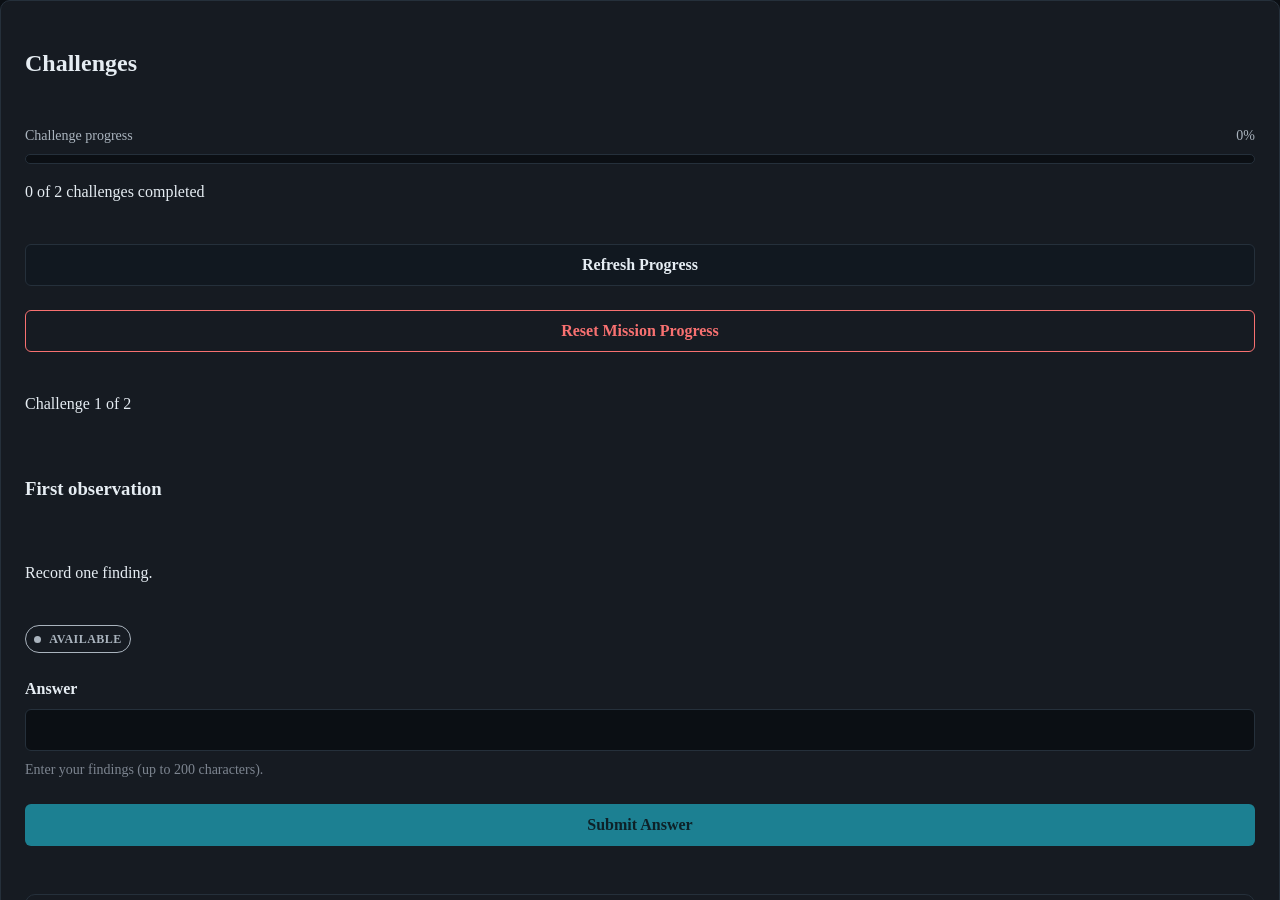
Test case: submits a generic answer once and shows incorrect feedback without disclosure
In the field labelled "Answer": (640, 730) [25, 709, 1255, 751], type "fixture observation"
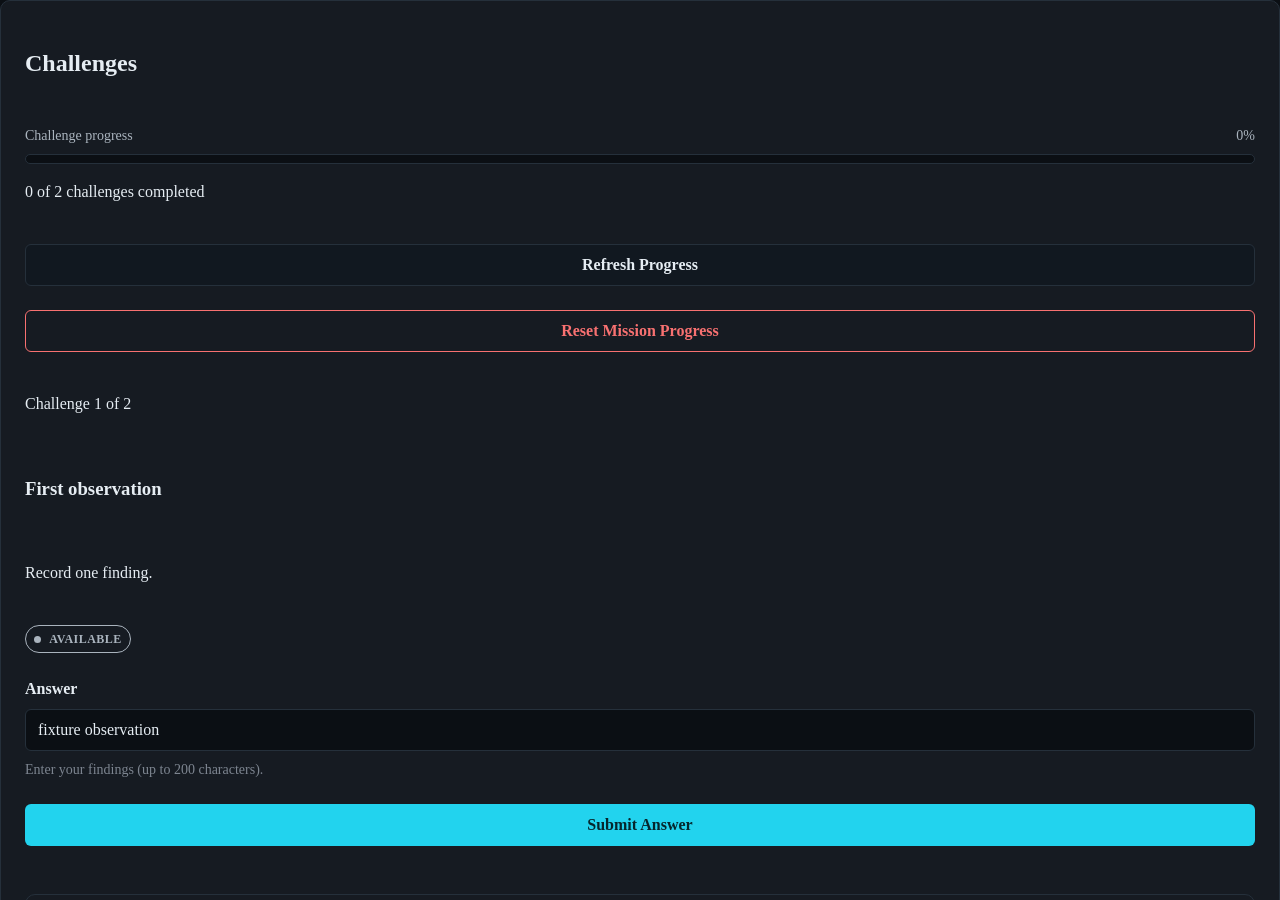
Click the button "Submit Answer": click(640, 825) [25, 804, 1255, 846]
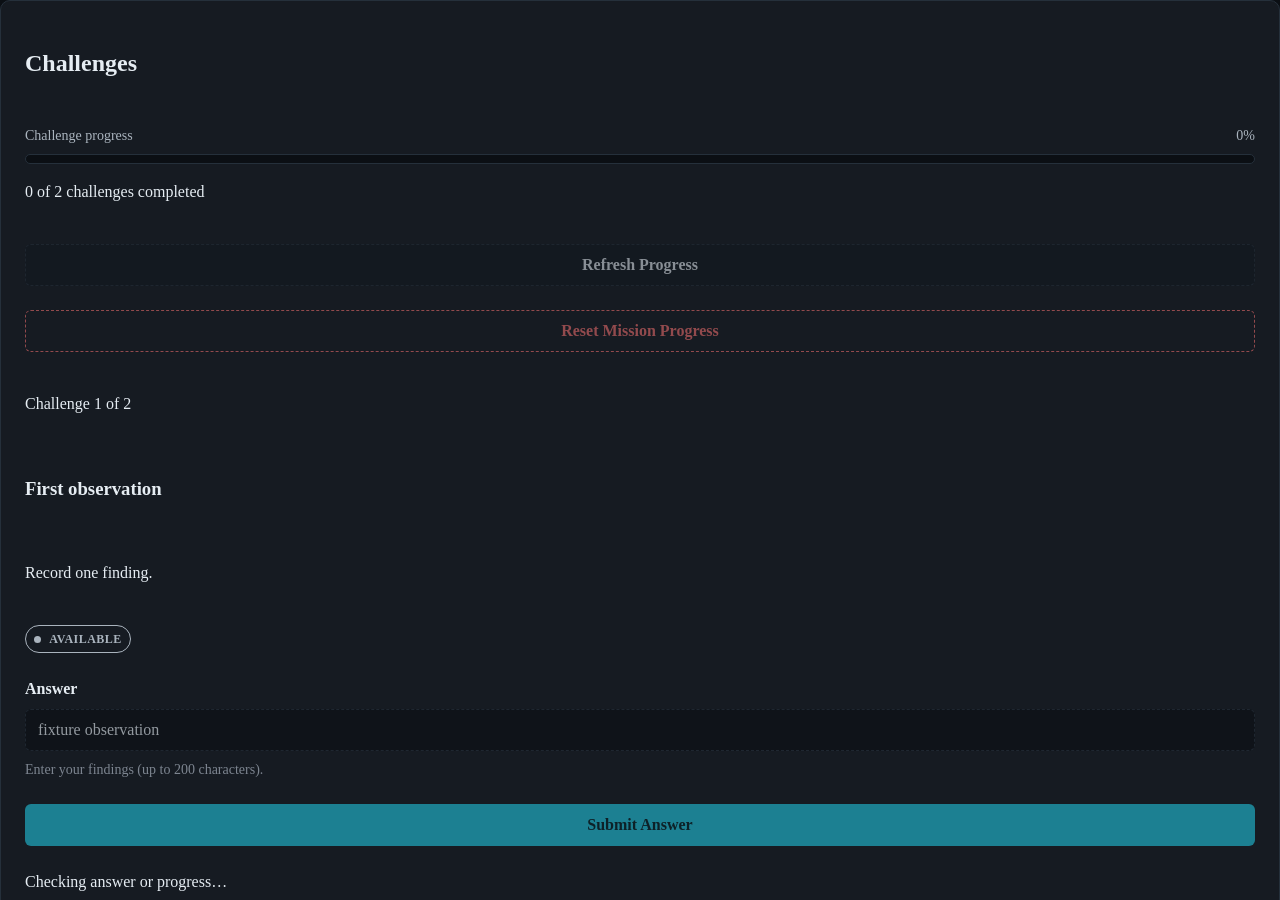
Now the button "Submit Answer" is disabled
Click the button "Submit Answer": click(640, 825) [25, 804, 1255, 846]
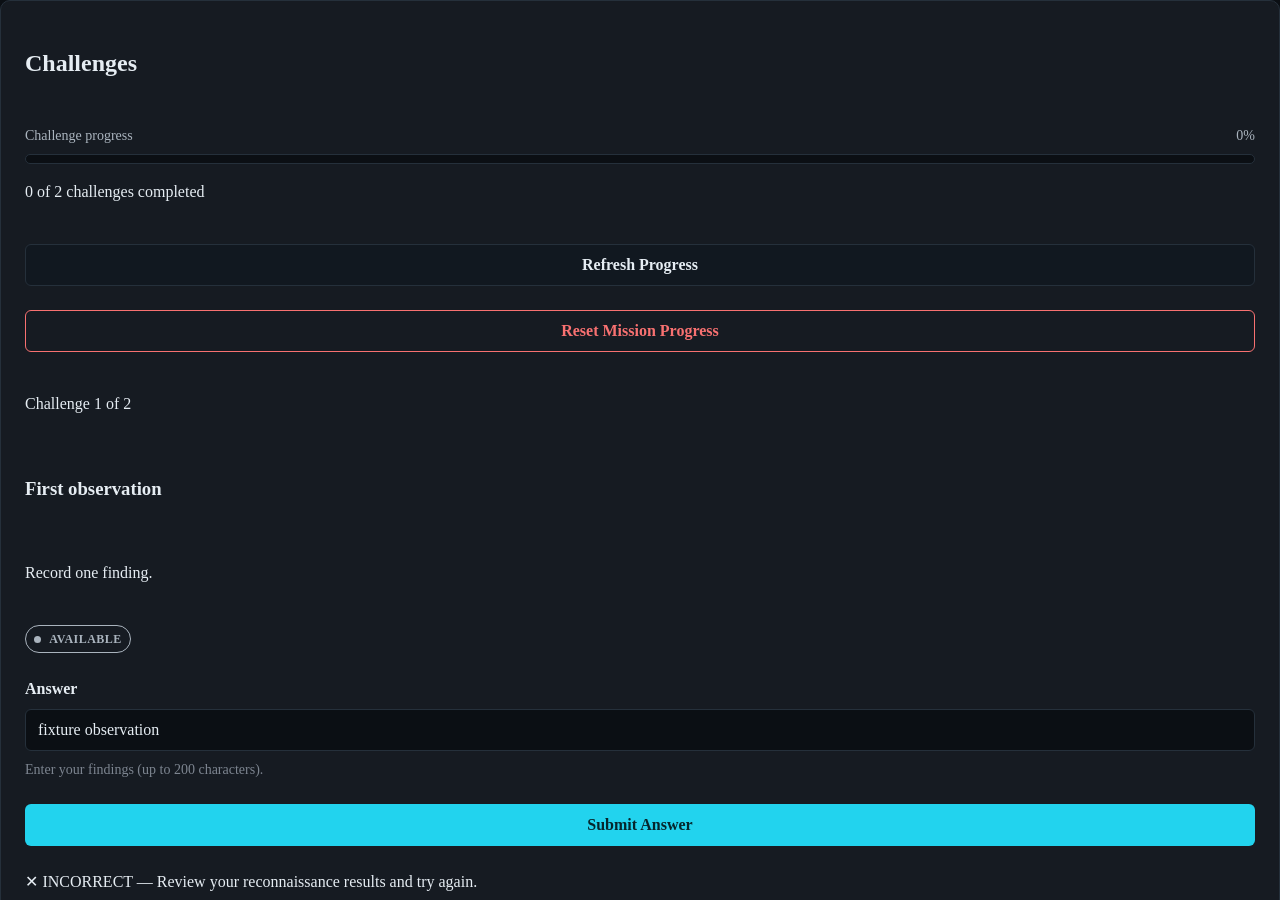
Now the text "✕ INCORRECT — Review your reconnaissance results and try again." is shown, box [25, 873, 477, 890]
Now the field is enabled, box [25, 709, 1255, 751]
